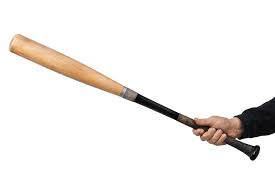baseball bat: (8, 33, 260, 160)
